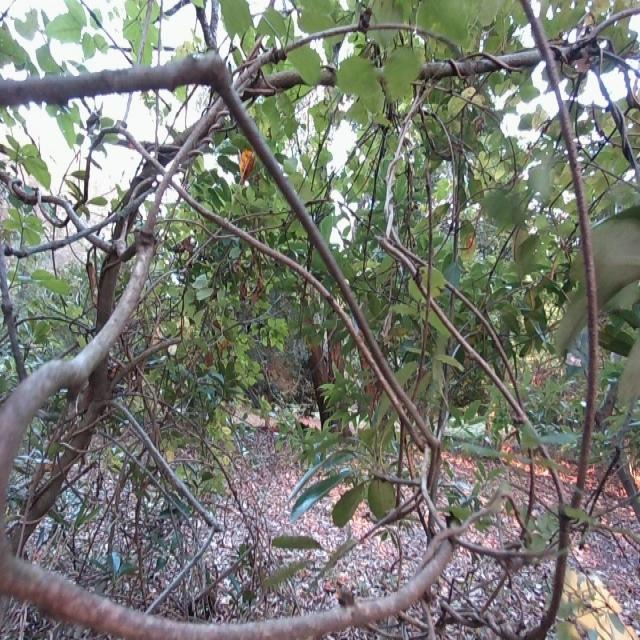bush: (1, 6, 640, 640)
